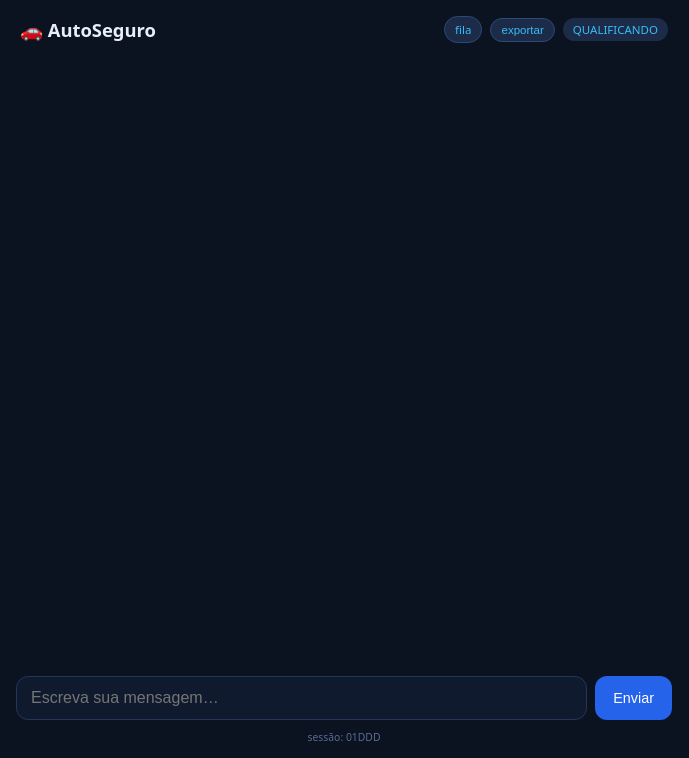
Test: handoff bloqueia o input e mostra o banner (C1 final)
This screenshot has width=689, height=758.
Type "fechado!" into the field labelled "mensagem" at (302, 698), box [16, 676, 587, 720]
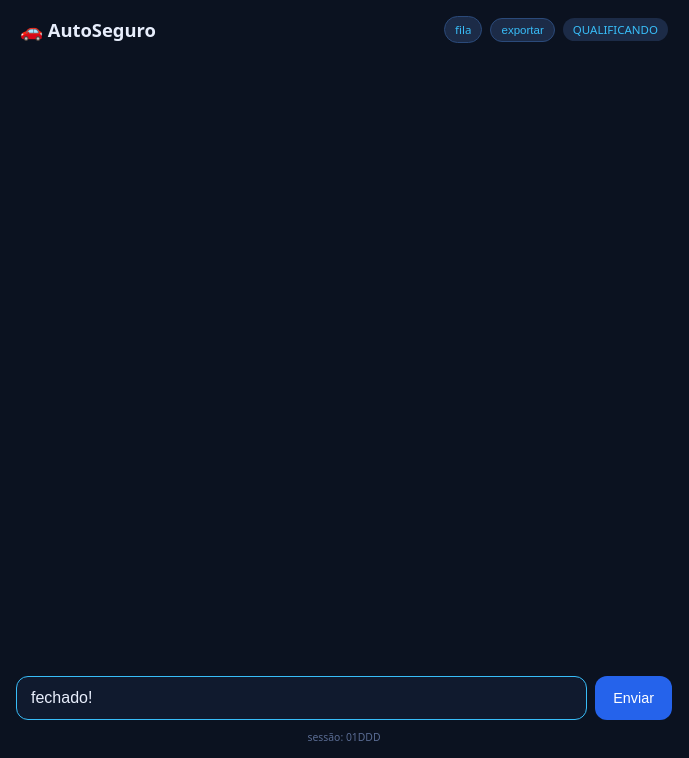
Click the button "Enviar" at (634, 698), box [595, 676, 672, 720]
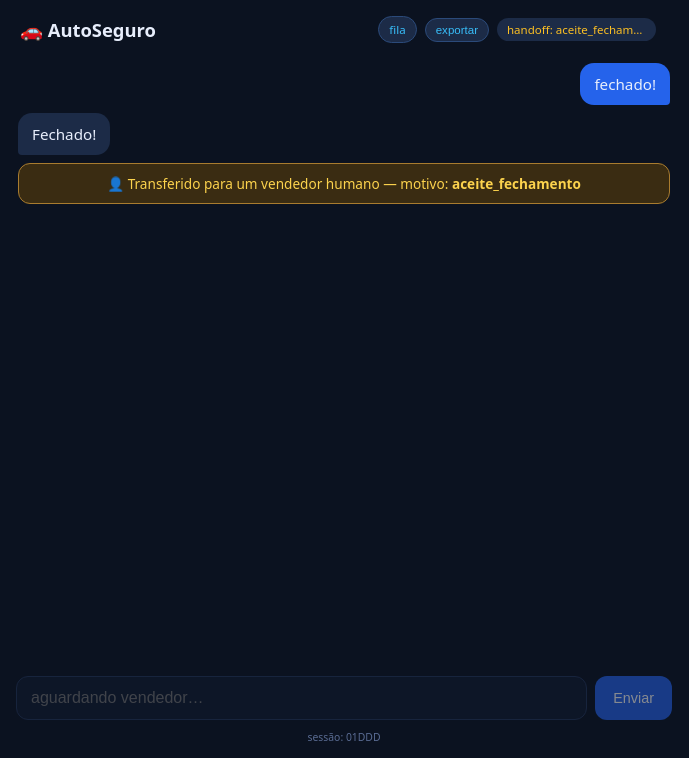
Check: the message shows "aceite_fechamento", box [452, 174, 581, 193]
Check: the field named "mensagem" is disabled, box [16, 676, 587, 720]
Check: the button "Enviar" is disabled, box [595, 676, 672, 720]
